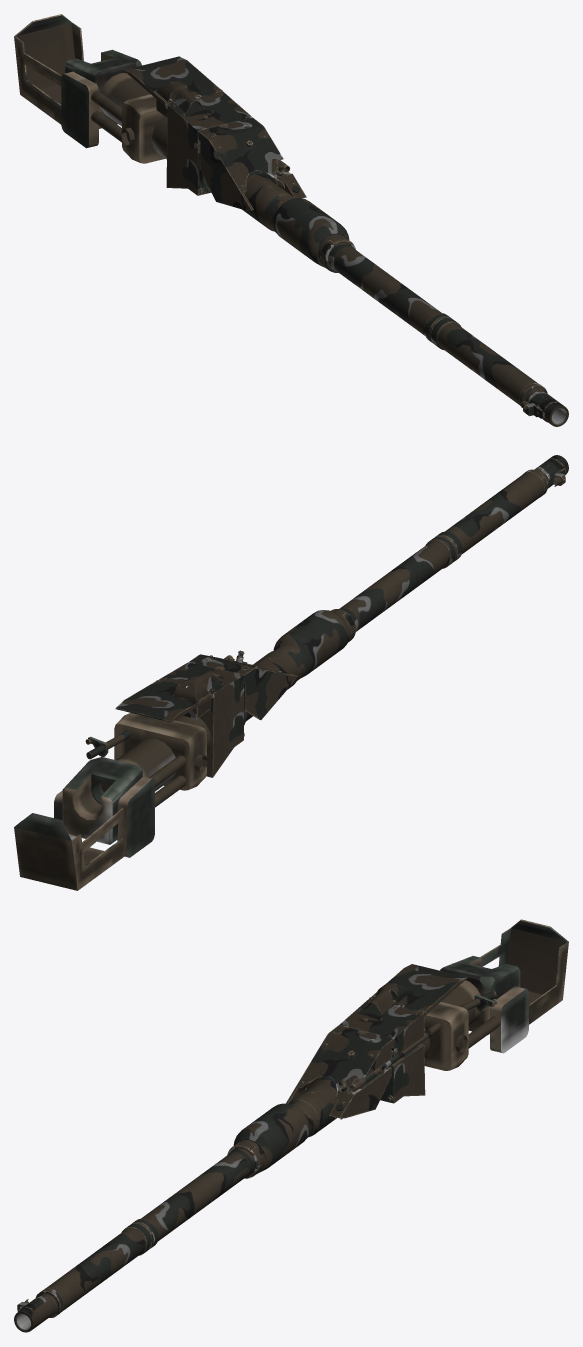
File: joopo.glb
3 renders of one model, top to bottom at view 1: azimuth 30°, elevation 25°; view 2: azimuth 150°, elevation 25°; view 3: azimuth 330°, elevation 25°, orthographic.
Visible parts, largest first — view 1: JOOPO; view 2: JOOPO; view 3: JOOPO.
Part boxes in pixels (<box>): JOOPO: <box>14,14,568,426</box>; JOOPO: <box>14,455,568,890</box>; JOOPO: <box>14,919,568,1332</box>.
Size of the model in its own units: 0.7388 by 0.8562 by 7.42.
Materials: 2 (2 with a texture image).
